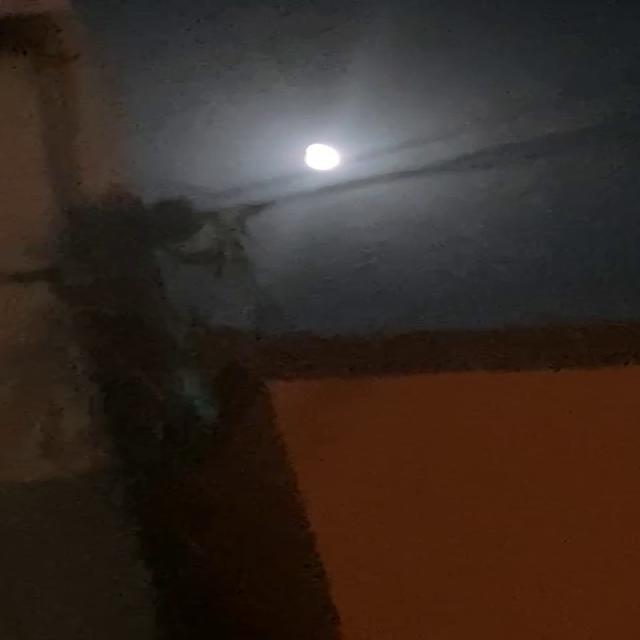moon: (299, 138, 358, 188)
